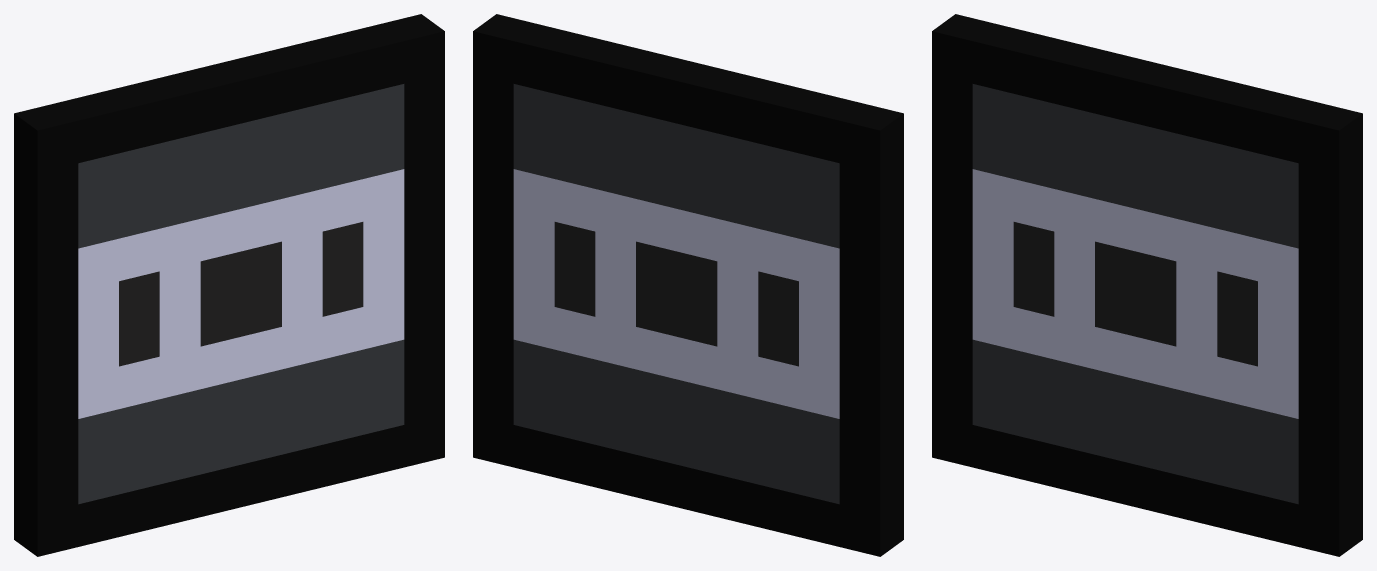
The model's file is Gray Paintball Explosive Item.glb.
The picture shows the model from 3 angles, left to right: view 1: azimuth 30°, elevation 25°; view 2: azimuth 150°, elevation 25°; view 3: azimuth 330°, elevation 25°; orthographic projection.
Visible parts, largest first — view 1: generated; view 2: generated; view 3: generated.
Part boxes in pixels (x1,y1,x2,y2): generated: (14, 14, 444, 556); generated: (473, 14, 903, 556); generated: (932, 14, 1362, 556).
Size of the model in its own units: 10 by 10 by 1.
1 material, 1 textured.
